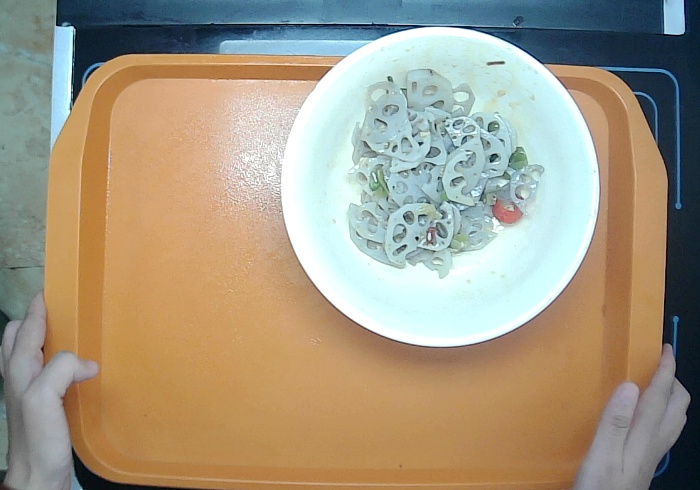ZNLD-Da_Tang_Wan: (277, 21, 607, 355)
